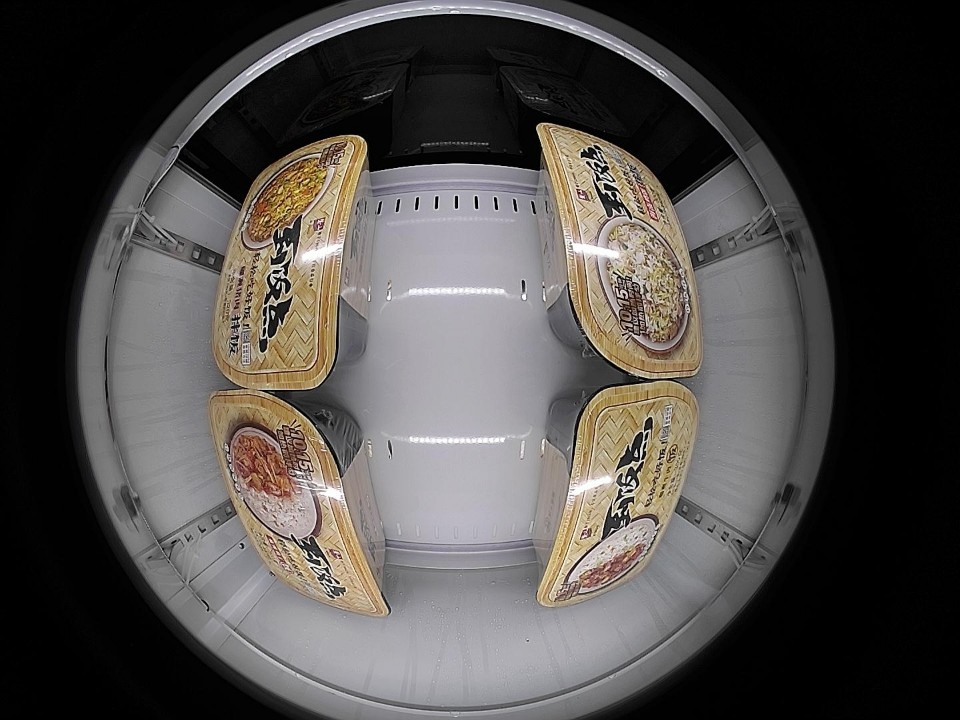daofandian1: (538, 123, 702, 380)
daofandian2: (538, 379, 699, 609)
daofandian3: (212, 134, 367, 393)
daofandian4: (211, 390, 386, 618)
